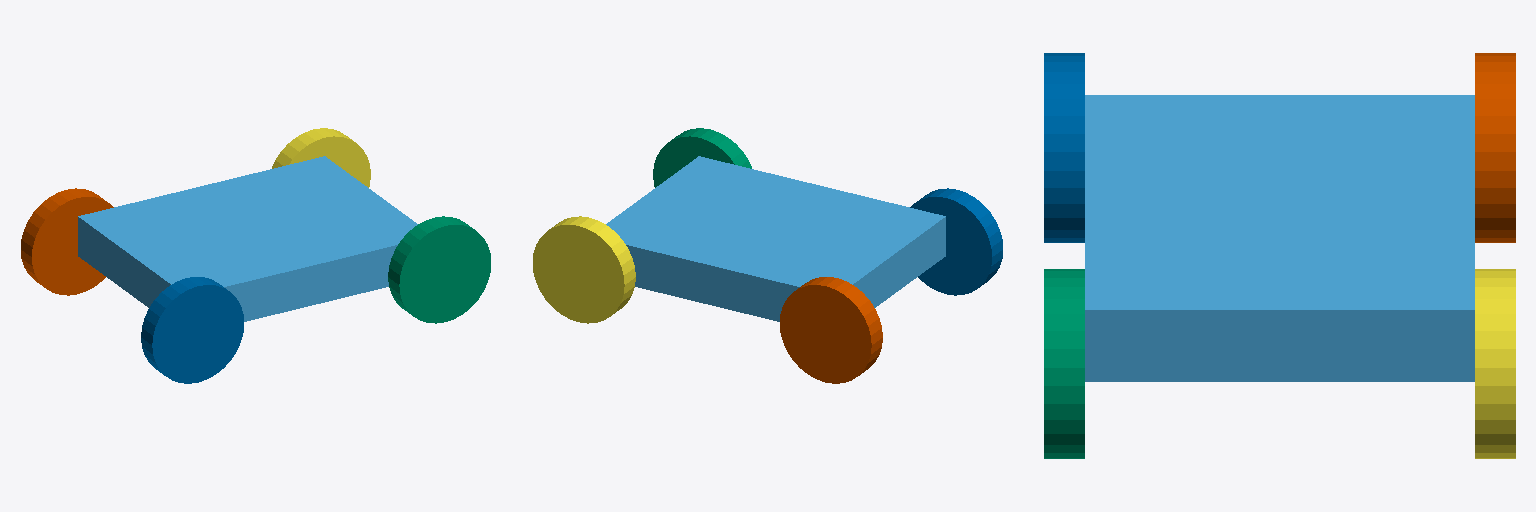
robot.urdf — boxxo:
<?xml version="1.0" ?>
<!-- =================================================================================== -->
<!-- |    This document was autogenerated by xacro from src/boxxo_core/urdf/boxxo.urdf.xacro | -->
<!-- |    EDITING THIS FILE BY HAND IS NOT RECOMMENDED                                 | -->
<!-- =================================================================================== -->
<robot name="boxxo">
  <link name="base_link"/>
  <!-- The chassis of the rover -->
  <link name="chassie">
    <visual>
      <origin rpy="0 0 0" xyz="0 0 0.125"/>
      <geometry>
        <box size="1.6256 1.2446 0.25"/>
      </geometry>
    </visual>
    <collision>
      <origin rpy="0 0 0" xyz="0 0 0.125"/>
      <geometry>
        <box size="1.6256 1.2446 0.25"/>
      </geometry>
    </collision>
    <inertial>
      <origin rpy="0 0 0" xyz="0 0 0.125"/>
      <mass value="0"/>
      <inertia ixx="1.25" ixy="0.0" ixz="0.0" iyy="7.0" iyz="0.0" izz="0.0"/>
    </inertial>
  </link>
  <joint name="reality_glue" type="fixed">
    <parent link="base_link"/>
    <child link="chassie"/>
  </joint>
  <link name="front_left_wheel_link">
    <visual>
      <origin rpy="1.5707963267948966 0 0" xyz="0 0 0"/>
      <geometry>
        <cylinder length="0.1286" radius="0.3032"/>
      </geometry>
    </visual>
    <collision>
      <origin rpy="1.5707963267948966 0 0" xyz="0 0 0"/>
      <geometry>
        <cylinder length="0.1286" radius="0.3032"/>
      </geometry>
    </collision>
    <inertial>
      <origin rpy="1.5707963267948966 0 0" xyz="0 0 0"/>
      <mass value="35"/>
      <inertia ixx="0.08" ixy="0.0" ixz="0.0" iyy="0.14" iyz="0.0" izz="0.08"/>
    </inertial>
  </link>
  <joint name="front_left_wheel" type="continuous">
    <parent link="chassie"/>
    <child link="front_left_wheel_link"/>
    <origin rpy="0 0 0" xyz="0.8128 -0.6866 0.0625"/>
    <axis xyz="0 1 0"/>
  </joint>
  <transmission name="front_left_wheel_trans">
    <type>transmission_interface/SimpleTransmission</type>
    <joint name="front_left_wheel">
      <hardwareInterface>hardware_interface/VelocityJointInterface</hardwareInterface>
    </joint>
    <actuator>
      <hardwareInterface>hardware_interface/VelocityJointInterface</hardwareInterface>
      <mechanicalreduction>1</mechanicalreduction>
    </actuator>
  </transmission>
  <link name="front_right_wheel_link">
    <visual>
      <origin rpy="1.5707963267948966 0 0" xyz="0 0 0"/>
      <geometry>
        <cylinder length="0.1286" radius="0.3032"/>
      </geometry>
    </visual>
    <collision>
      <origin rpy="1.5707963267948966 0 0" xyz="0 0 0"/>
      <geometry>
        <cylinder length="0.1286" radius="0.3032"/>
      </geometry>
    </collision>
    <inertial>
      <origin rpy="1.5707963267948966 0 0" xyz="0 0 0"/>
      <mass value="35"/>
      <inertia ixx="0.08" ixy="0.0" ixz="0.0" iyy="0.14" iyz="0.0" izz="0.08"/>
    </inertial>
  </link>
  <joint name="front_right_wheel" type="continuous">
    <parent link="chassie"/>
    <child link="front_right_wheel_link"/>
    <origin rpy="0 0 0" xyz="0.8128 0.6866 0.0625"/>
    <axis xyz="0 1 0"/>
  </joint>
  <transmission name="front_right_wheel_trans">
    <type>transmission_interface/SimpleTransmission</type>
    <joint name="front_right_wheel">
      <hardwareInterface>hardware_interface/VelocityJointInterface</hardwareInterface>
    </joint>
    <actuator>
      <hardwareInterface>hardware_interface/VelocityJointInterface</hardwareInterface>
      <mechanicalreduction>1</mechanicalreduction>
    </actuator>
  </transmission>
  <link name="rear_left_wheel_link">
    <visual>
      <origin rpy="1.5707963267948966 0 0" xyz="0 0 0"/>
      <geometry>
        <cylinder length="0.1286" radius="0.3032"/>
      </geometry>
    </visual>
    <collision>
      <origin rpy="1.5707963267948966 0 0" xyz="0 0 0"/>
      <geometry>
        <cylinder length="0.1286" radius="0.3032"/>
      </geometry>
    </collision>
    <inertial>
      <origin rpy="1.5707963267948966 0 0" xyz="0 0 0"/>
      <mass value="35"/>
      <inertia ixx="0.08" ixy="0.0" ixz="0.0" iyy="0.14" iyz="0.0" izz="0.08"/>
    </inertial>
  </link>
  <joint name="rear_left_wheel" type="continuous">
    <parent link="chassie"/>
    <child link="rear_left_wheel_link"/>
    <origin rpy="0 0 0" xyz="-0.8128 -0.6866 0.0625"/>
    <axis xyz="0 1 0"/>
  </joint>
  <transmission name="rear_left_wheel_trans">
    <type>transmission_interface/SimpleTransmission</type>
    <joint name="rear_left_wheel">
      <hardwareInterface>hardware_interface/VelocityJointInterface</hardwareInterface>
    </joint>
    <actuator>
      <hardwareInterface>hardware_interface/VelocityJointInterface</hardwareInterface>
      <mechanicalreduction>1</mechanicalreduction>
    </actuator>
  </transmission>
  <link name="rear_right_wheel_link">
    <visual>
      <origin rpy="1.5707963267948966 0 0" xyz="0 0 0"/>
      <geometry>
        <cylinder length="0.1286" radius="0.3032"/>
      </geometry>
    </visual>
    <collision>
      <origin rpy="1.5707963267948966 0 0" xyz="0 0 0"/>
      <geometry>
        <cylinder length="0.1286" radius="0.3032"/>
      </geometry>
    </collision>
    <inertial>
      <origin rpy="1.5707963267948966 0 0" xyz="0 0 0"/>
      <mass value="35"/>
      <inertia ixx="0.08" ixy="0.0" ixz="0.0" iyy="0.14" iyz="0.0" izz="0.08"/>
    </inertial>
  </link>
  <joint name="rear_right_wheel" type="continuous">
    <parent link="chassie"/>
    <child link="rear_right_wheel_link"/>
    <origin rpy="0 0 0" xyz="-0.8128 0.6866 0.0625"/>
    <axis xyz="0 1 0"/>
  </joint>
  <transmission name="rear_right_wheel_trans">
    <type>transmission_interface/SimpleTransmission</type>
    <joint name="rear_right_wheel">
      <hardwareInterface>hardware_interface/VelocityJointInterface</hardwareInterface>
    </joint>
    <actuator>
      <hardwareInterface>hardware_interface/VelocityJointInterface</hardwareInterface>
      <mechanicalreduction>1</mechanicalreduction>
    </actuator>
  </transmission>
</robot>

--- What the picture shows (computed from the rendered views, not written in the file) ---
The picture shows the robot from 3 angles, left to right: view 1: azimuth 30°, elevation 25°; view 2: azimuth 150°, elevation 25°; view 3: azimuth 270°, elevation 25°; orthographic projection.
Robot: boxxo — 6 links, 5 joints (4 continuous, 1 fixed); root link base_link; default pose: every joint at zero.
Links seen in each view (by area): view 1: chassie, rear_left_wheel_link, front_left_wheel_link, rear_right_wheel_link, front_right_wheel_link; view 2: chassie, rear_right_wheel_link, front_right_wheel_link, rear_left_wheel_link, front_left_wheel_link; view 3: chassie, front_left_wheel_link, front_right_wheel_link, rear_left_wheel_link, rear_right_wheel_link.
Boxes of the visible links, x1,y1,x2,y2 form: chassie: [78, 156, 417, 321]; rear_left_wheel_link: [141, 277, 243, 383]; front_left_wheel_link: [388, 216, 490, 323]; rear_right_wheel_link: [21, 188, 113, 295]; front_right_wheel_link: [272, 128, 370, 187]; chassie: [606, 156, 945, 321]; rear_right_wheel_link: [780, 277, 882, 383]; front_right_wheel_link: [533, 216, 635, 323]; rear_left_wheel_link: [910, 188, 1002, 295]; front_left_wheel_link: [653, 128, 751, 187]; chassie: [1085, 95, 1474, 381]; front_left_wheel_link: [1044, 269, 1084, 458]; front_right_wheel_link: [1475, 269, 1515, 458]; rear_left_wheel_link: [1044, 53, 1084, 242]; rear_right_wheel_link: [1475, 53, 1515, 242].
Size in the robot's own frame: 2.23 by 1.5 by 0.6064 metres.
Geometry: primitives only (box / cylinder / sphere), no mesh files.
